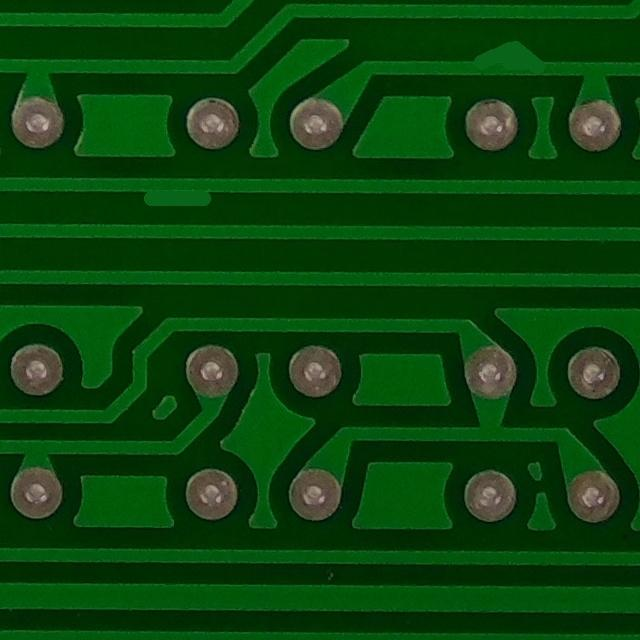spur: (446, 24, 567, 86), (131, 170, 218, 215)
